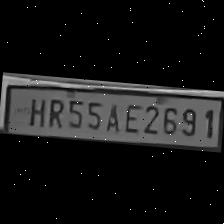1: (198, 104, 218, 138)
2: (139, 101, 160, 134)
5: (82, 96, 106, 130), (63, 94, 85, 128)
6: (158, 103, 179, 135)
9: (176, 103, 199, 136)
A: (102, 98, 122, 132)
E: (119, 99, 142, 134)
H: (24, 93, 46, 128)
R: (43, 94, 66, 130)
